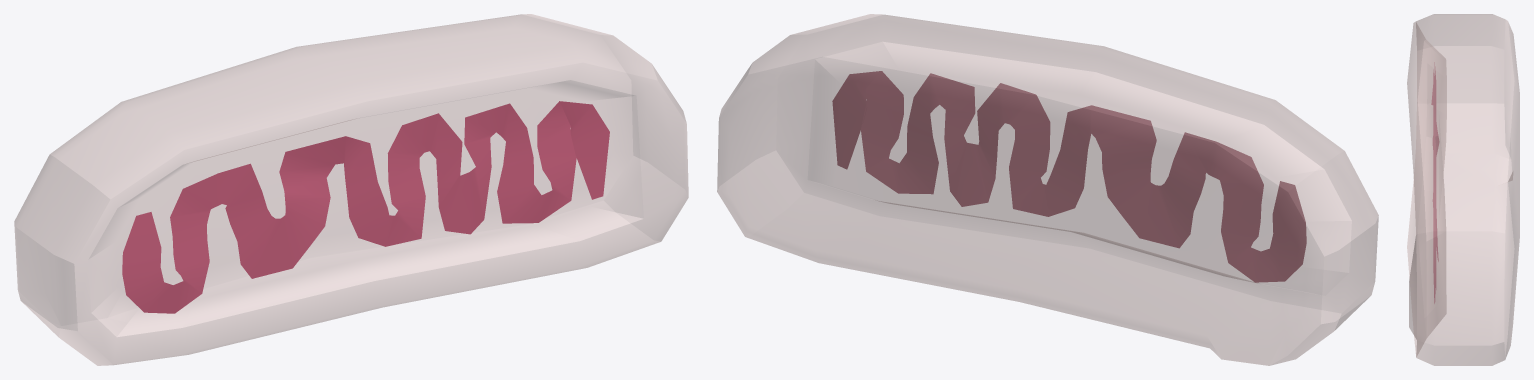
The model's file is MITOCANDRIYA.fbx.
The picture shows the model from 3 angles, left to right: view 1: azimuth 30°, elevation 25°; view 2: azimuth 150°, elevation 25°; view 3: azimuth 270°, elevation 25°; orthographic projection. The views are drawn at different scales.
Parts seen in each view (by area): view 1: pCube1, pPlane1; view 2: pCube1, pPlane1; view 3: pCube1, pPlane1.
Part boxes in pixels (x1,y1,x2,y2): pCube1: [14, 14, 688, 365]; pPlane1: [122, 101, 609, 313]; pCube1: [717, 14, 1378, 365]; pPlane1: [832, 71, 1306, 282]; pCube1: [1407, 14, 1519, 365]; pPlane1: [1431, 62, 1439, 303].
Size of the model in its own units: 56.6 by 20.78 by 11.62.
